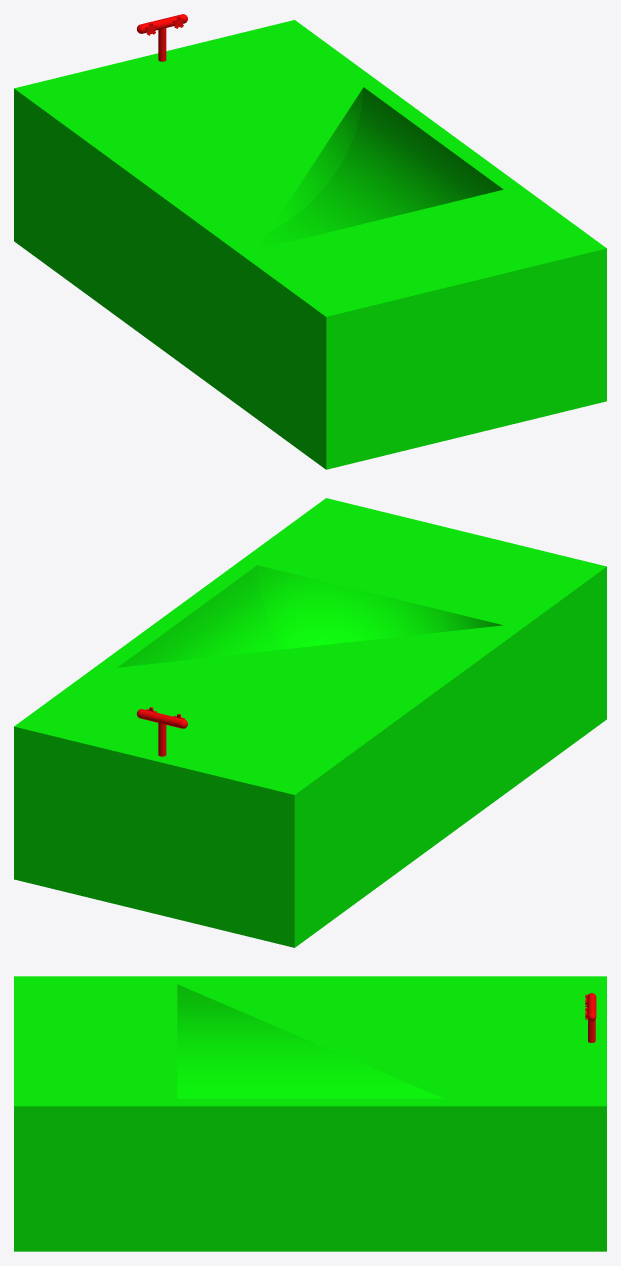
The model's file is bath.fbx.
The picture shows the model from 3 angles, top to bottom: view 1: azimuth 30°, elevation 25°; view 2: azimuth 150°, elevation 25°; view 3: azimuth 270°, elevation 25°; orthographic projection. The views are drawn at different scales.
Visible parts, largest first — view 1: Bath; view 2: Bath; view 3: Bath.
Part boxes in pixels (bbox=[...]): Bath: bbox=[14, 14, 606, 469]; Bath: bbox=[14, 498, 606, 947]; Bath: bbox=[14, 976, 606, 1251].
Size of the model in its own units: 162 by 107 by 312.
